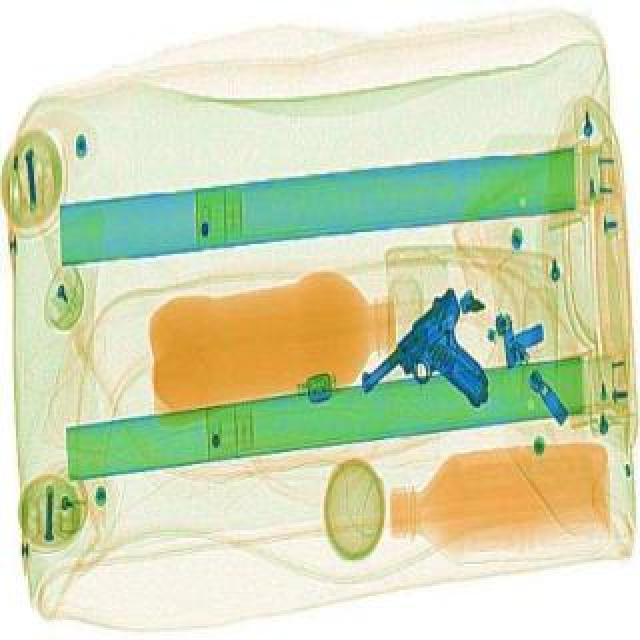gun: (354, 276, 510, 408)
